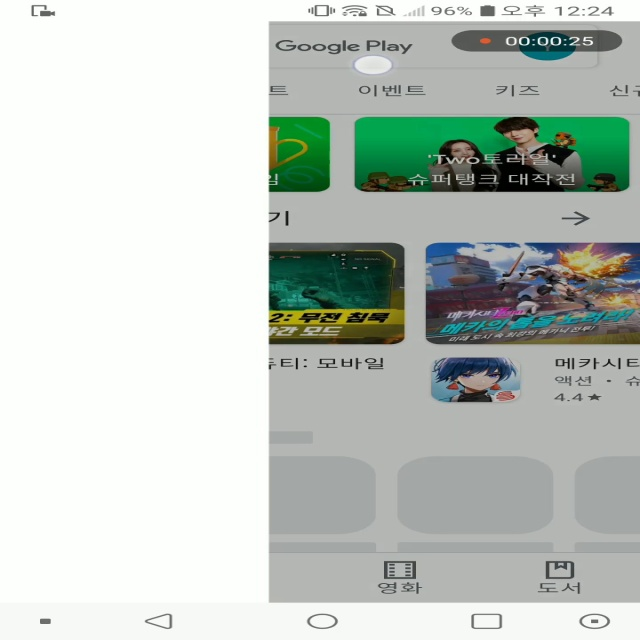Cursor: (353, 55, 398, 77)
